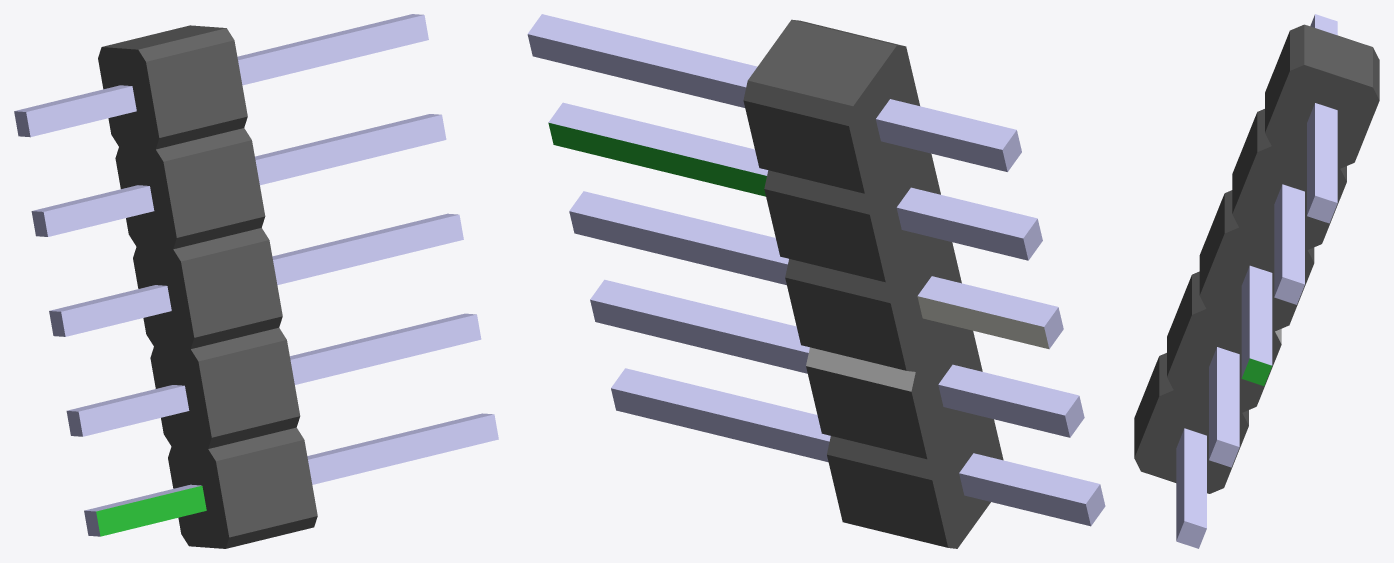
Rendered from EBoxNewAsm_stp_1_IMC413_1_stp_1_IMC413_1_27_stp_1_solid1.obj.
3 views of the same model, side by side, from view 1: azimuth 30°, elevation 25°; view 2: azimuth 150°, elevation 25°; view 3: azimuth 270°, elevation 25° (orthographic). The views are drawn at different scales.
Visible parts, largest first — view 1: mesh8901, mesh8882, mesh8876, mesh8879, mesh8873, mesh8885, mesh8846, mesh8852, mesh8857, mesh8861, mesh8866, mesh8902 (+20 smaller); view 2: mesh8901, mesh8887, mesh8895, mesh8900, mesh8869, mesh8892, mesh8889, mesh8864, mesh8845, mesh8851, mesh8859, mesh8856 (+20 smaller); view 3: mesh8848, mesh8887, mesh8856, mesh8859, mesh8845, mesh8851, mesh8864, mesh8873, mesh8879, mesh8882, mesh8876, mesh8885 (+16 smaller).
Part boxes in pixels (x1,y1,x2,y2): mesh8901: [98, 47, 229, 548]; mesh8882: [163, 140, 265, 237]; mesh8876: [198, 340, 300, 437]; mesh8879: [181, 240, 282, 337]; mesh8873: [216, 440, 317, 537]; mesh8885: [146, 40, 247, 137]; mesh8846: [308, 414, 498, 484]; mesh8852: [290, 314, 481, 384]; mesh8857: [273, 214, 463, 285]; mesh8861: [255, 115, 446, 185]; mesh8866: [238, 15, 428, 85]; mesh8902: [96, 485, 206, 536]; mesh8901: [849, 45, 1003, 548]; mesh8887: [748, 19, 896, 105]; mesh8895: [785, 277, 906, 370]; mesh8900: [806, 366, 927, 459]; mesh8869: [827, 454, 947, 547]; mesh8892: [764, 189, 885, 282]; mesh8889: [743, 100, 864, 193]; mesh8864: [528, 14, 757, 87]; mesh8845: [611, 368, 830, 441]; mesh8851: [590, 279, 809, 352]; mesh8859: [548, 102, 768, 175]; mesh8856: [569, 191, 788, 264]; mesh8848: [1134, 65, 1379, 493]; mesh8887: [1304, 24, 1372, 87]; mesh8856: [1249, 265, 1272, 365]; mesh8859: [1282, 184, 1304, 284]; mesh8845: [1184, 428, 1206, 528]; mesh8851: [1217, 347, 1239, 446]; mesh8864: [1315, 103, 1337, 202]; mesh8873: [1134, 356, 1159, 457]; mesh8879: [1199, 194, 1224, 294]; mesh8882: [1232, 112, 1257, 213]; mesh8876: [1167, 275, 1191, 376]; mesh8885: [1265, 31, 1289, 132].
Size of the model in its own units: 0.0114 by 0.0126 by 0.00653.
